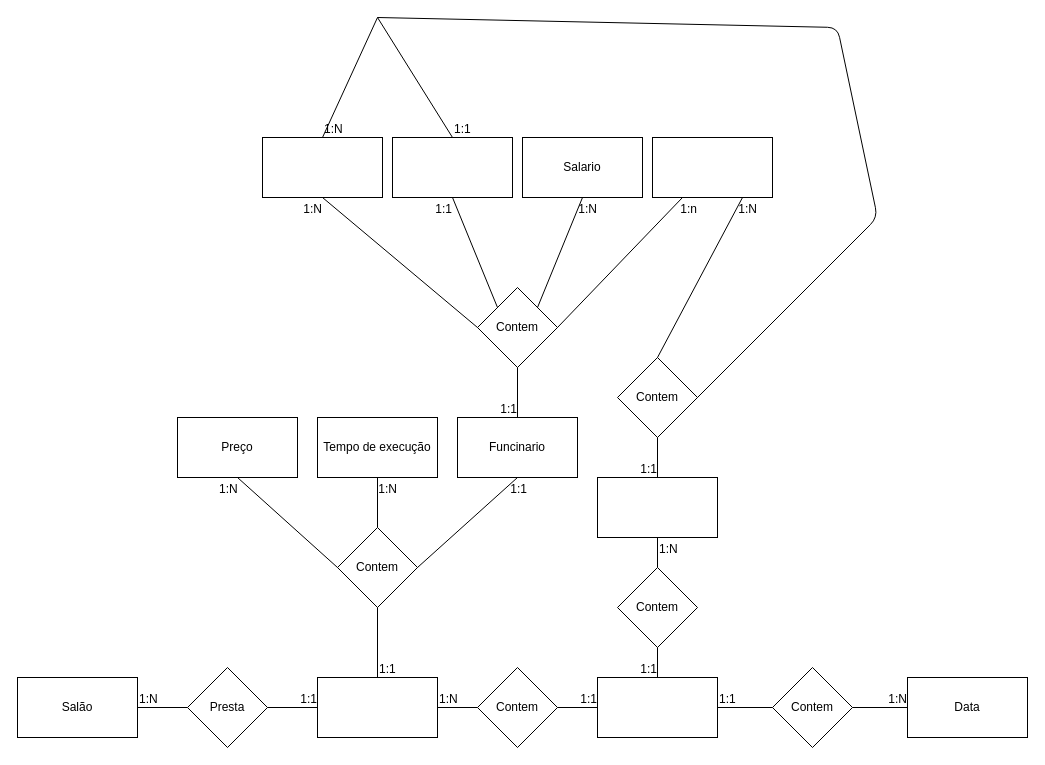
Image size: 1045x765. Some labels were removed from this diagram. Each missing label, with the box of its shape:
Cliente: (596, 476, 718, 538)
CPF: (392, 136, 512, 198)
Endereço: (652, 136, 772, 198)
Nome: (262, 136, 382, 198)
Pedido: (596, 676, 718, 738)
Serviço: (316, 676, 438, 738)
